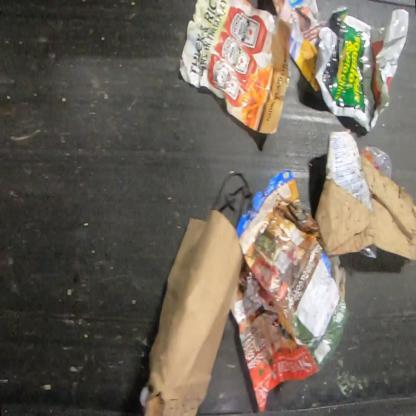cardboard: (144, 207, 244, 416), (315, 130, 415, 264)
rigid_plastic: (361, 146, 393, 180), (358, 244, 378, 259)
soft_plastic: (316, 7, 409, 134)
